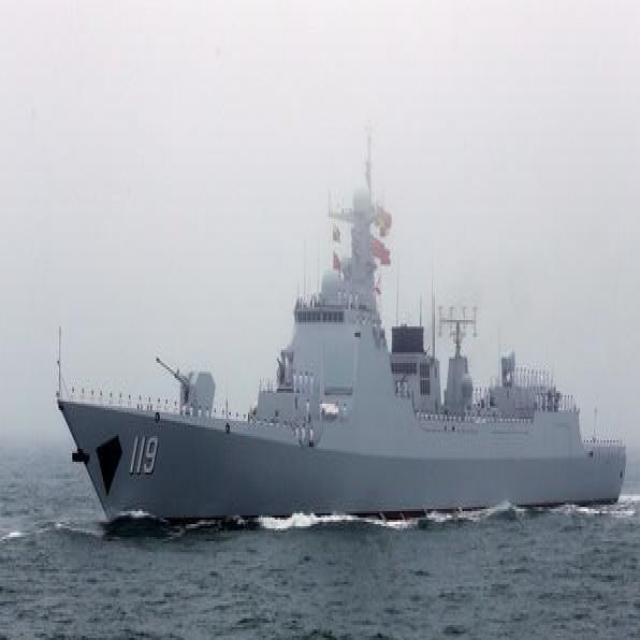navalvessels: (55, 106, 622, 538)
